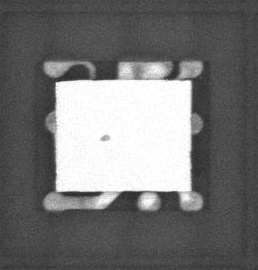DIE_INK: (95, 140, 106, 149)
